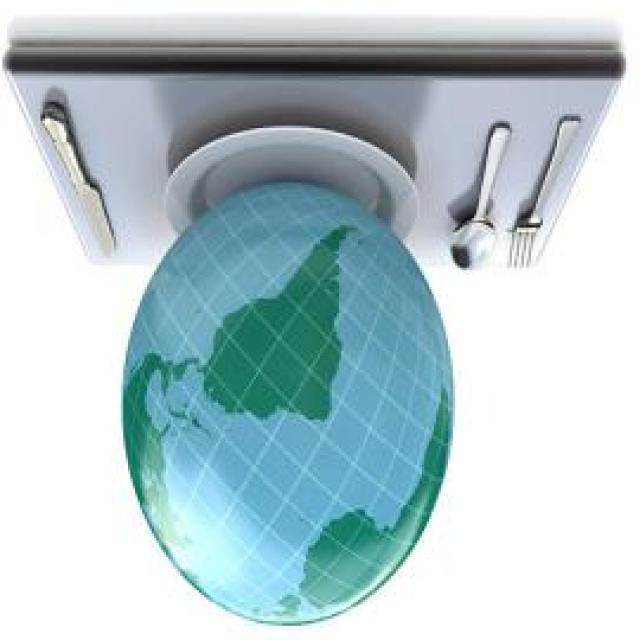knife: (43, 89, 117, 268)
